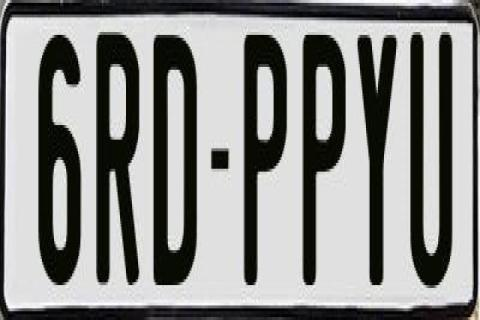0: (36, 35, 84, 285)
D: (152, 35, 198, 294)
P: (299, 26, 345, 294), (240, 29, 286, 279)
R: (94, 32, 140, 300)
U: (410, 26, 456, 282)
Y: (356, 35, 400, 285)
